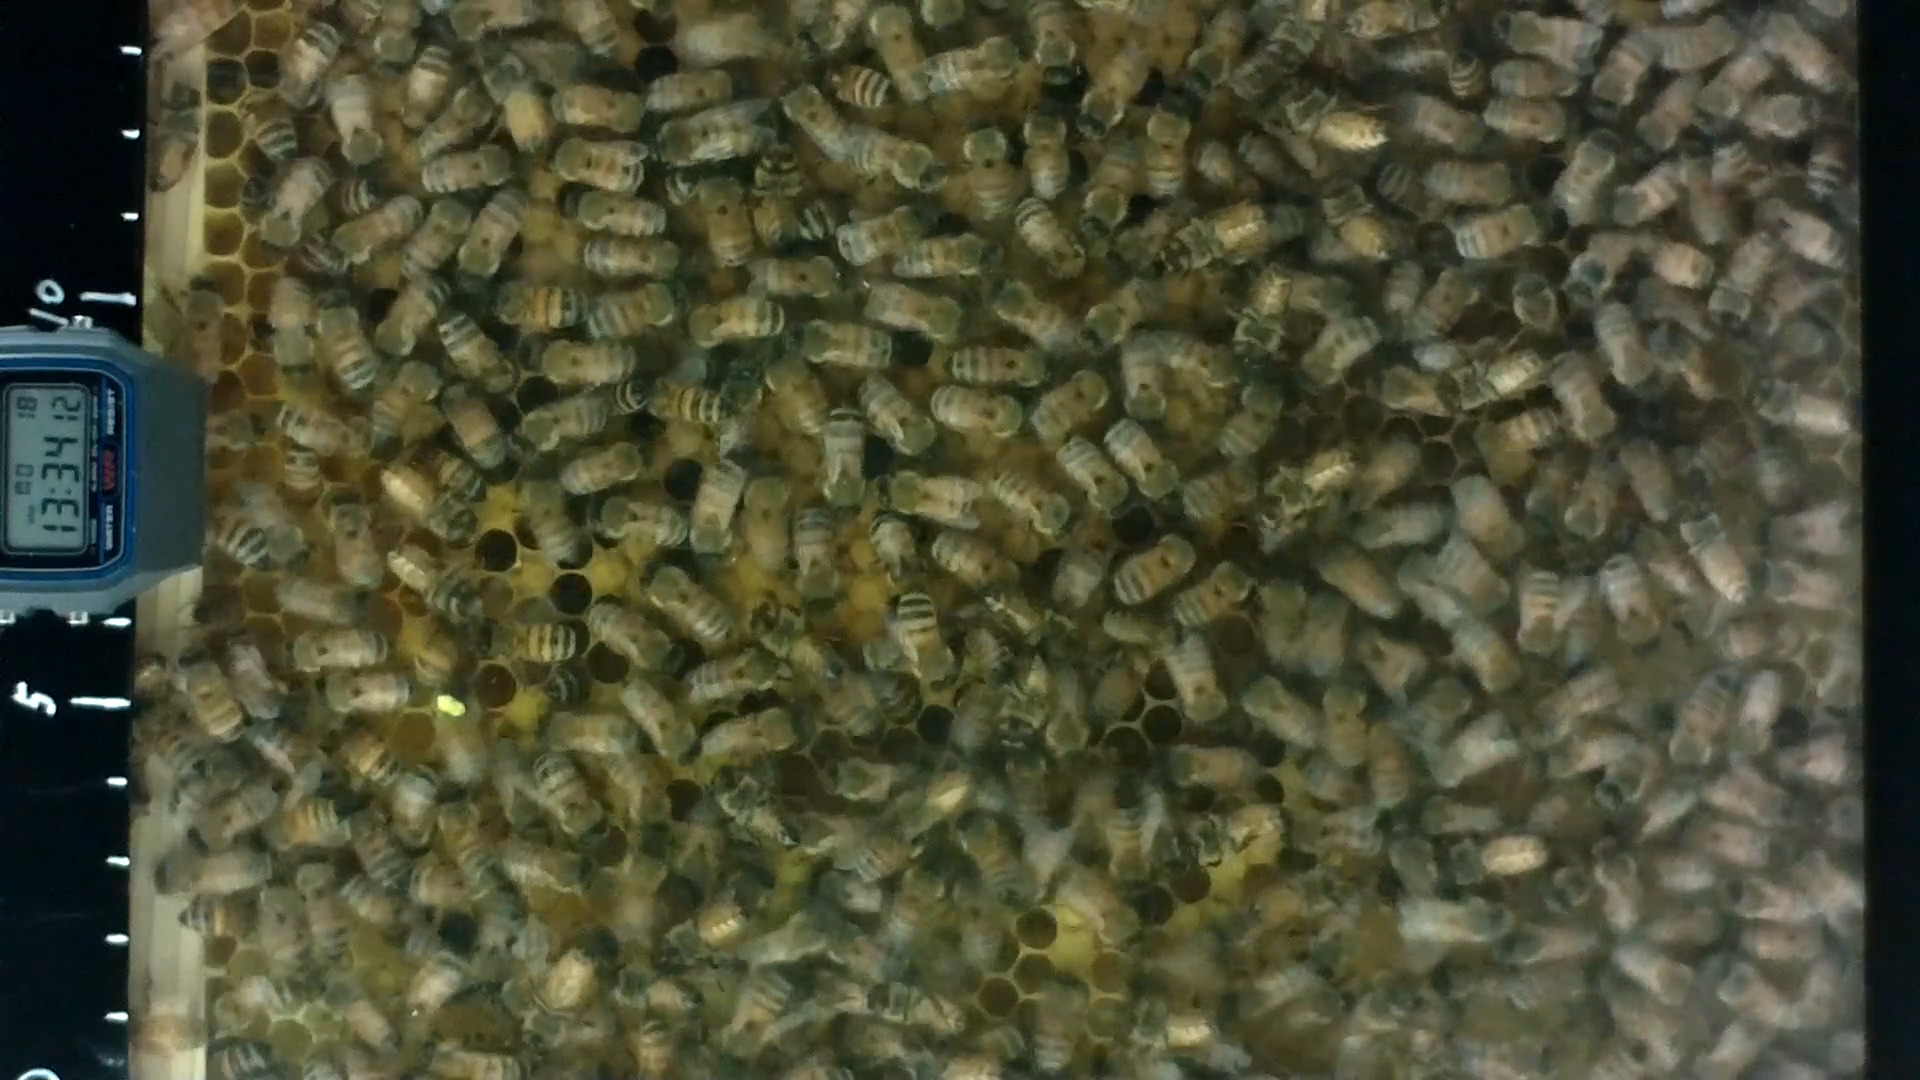hati: (977, 462, 1073, 551), (323, 489, 396, 607), (531, 752, 618, 847), (891, 589, 960, 703), (1073, 272, 1171, 349), (848, 127, 952, 199), (857, 281, 976, 344), (1156, 634, 1237, 727), (311, 289, 375, 405), (583, 607, 684, 678), (506, 473, 579, 570), (319, 74, 390, 171), (1440, 200, 1552, 262), (1549, 351, 1621, 447), (1179, 559, 1265, 636), (1549, 127, 1619, 220), (918, 38, 1021, 100), (794, 316, 902, 375), (653, 109, 767, 164), (277, 626, 400, 676), (690, 458, 742, 574), (524, 336, 636, 390), (440, 313, 516, 393), (1106, 526, 1180, 608), (1077, 55, 1145, 144), (1138, 98, 1192, 207), (265, 21, 334, 107), (553, 186, 673, 235), (934, 343, 1060, 389), (880, 469, 980, 527), (791, 508, 845, 615), (695, 171, 752, 273), (588, 496, 687, 554), (371, 274, 448, 347), (1518, 564, 1571, 669), (314, 669, 407, 727), (960, 117, 1013, 220), (262, 278, 313, 384), (546, 135, 644, 189), (484, 285, 588, 335), (684, 649, 773, 707), (512, 394, 603, 450), (1017, 104, 1068, 199), (740, 258, 853, 301), (683, 301, 785, 347), (564, 446, 657, 496), (822, 404, 864, 512), (931, 388, 1017, 440), (422, 146, 520, 193), (584, 286, 675, 335), (468, 616, 572, 658), (571, 236, 684, 273)
